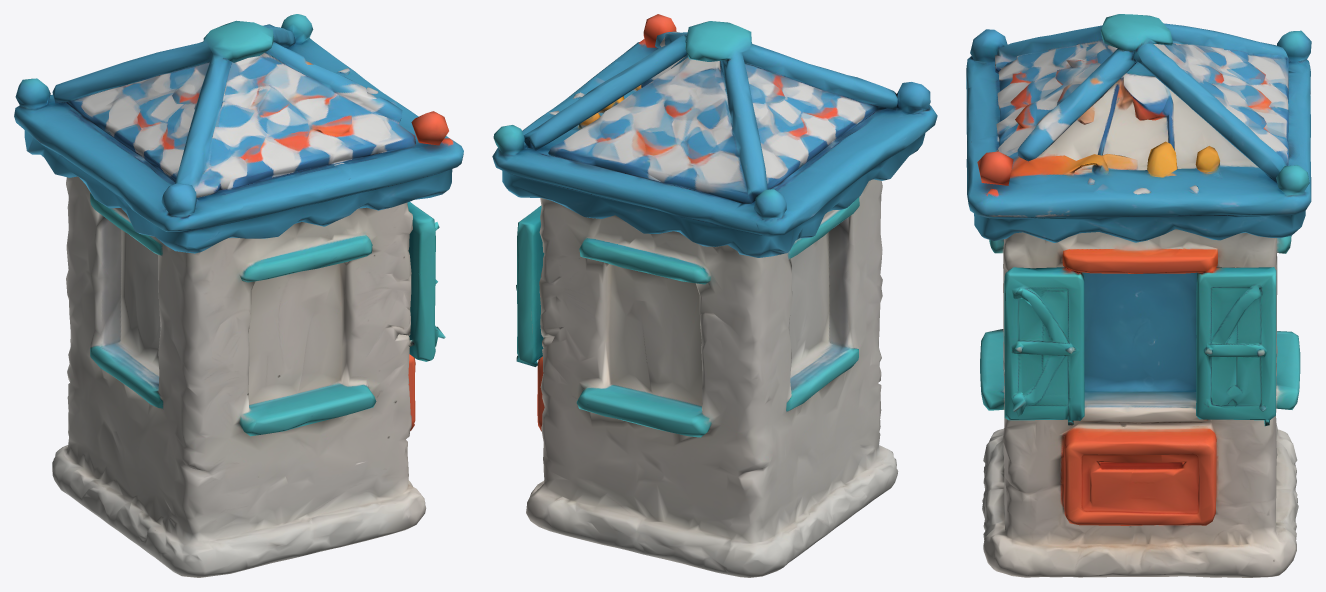
File: postcard-kiosk.glb
3 views of the same model, side by side, from view 1: azimuth 30°, elevation 25°; view 2: azimuth 150°, elevation 25°; view 3: azimuth 270°, elevation 25° (orthographic). The views are drawn at different scales.
Visible parts, largest first — view 1: tripo_node_af184cb9-2642-494d-a4d8-5df02481486e; view 2: tripo_node_af184cb9-2642-494d-a4d8-5df02481486e; view 3: tripo_node_af184cb9-2642-494d-a4d8-5df02481486e.
Part boxes in pixels (bbox=[...]): tripo_node_af184cb9-2642-494d-a4d8-5df02481486e: bbox=[14, 14, 463, 577]; tripo_node_af184cb9-2642-494d-a4d8-5df02481486e: bbox=[492, 14, 937, 577]; tripo_node_af184cb9-2642-494d-a4d8-5df02481486e: bbox=[966, 14, 1311, 577].
Size of the model in its own units: 0.6639 by 1 by 0.6303.
1 material, 1 textured.
